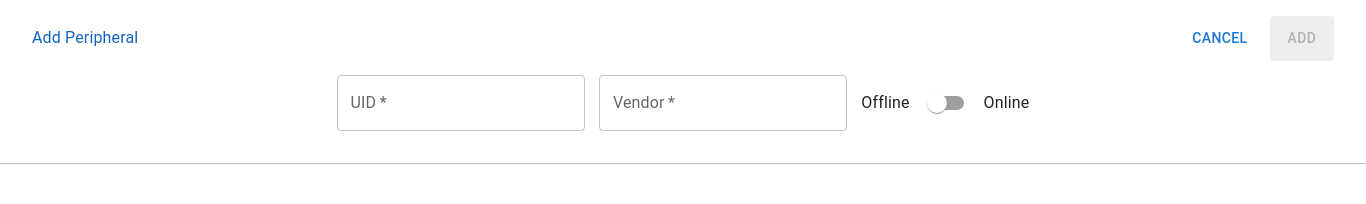
Test: <NewGateway /> Load the NewGateway component and make sure everything is correct › displays vendor validation errors
Type "this@wontgfgfgfgfgfgfgfgfgfgfgfgfgfgfgfgfgfgfgfgfgfgfgfgfgfgfgfgfgfg" into the field labelled "Vendor *" at (723, 103), box x1=599 y1=75 x2=847 y2=131
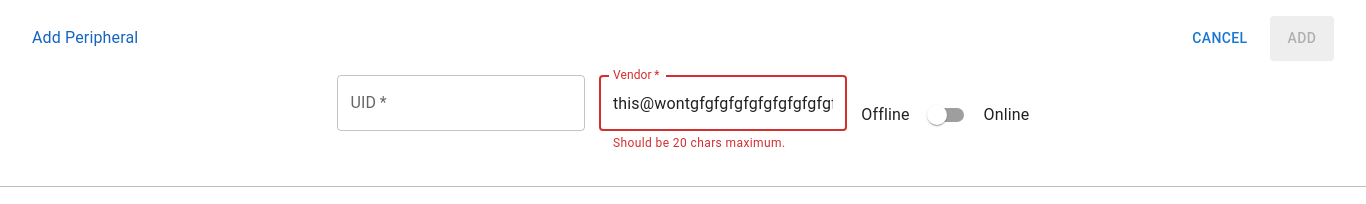
Result: the text "Should be 20 chars maximum." is shown at x1=613 y1=136 x2=786 y2=150
Clear the field labelled "Vendor *" at (723, 103), box x1=599 y1=75 x2=847 y2=131
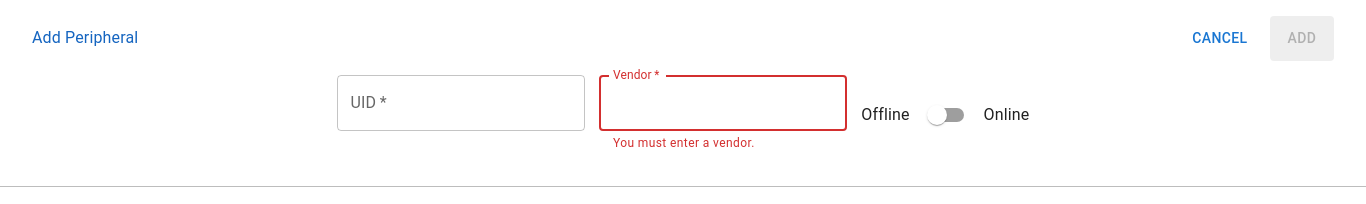
Result: the text "You must enter a vendor." is shown at x1=613 y1=136 x2=755 y2=150
